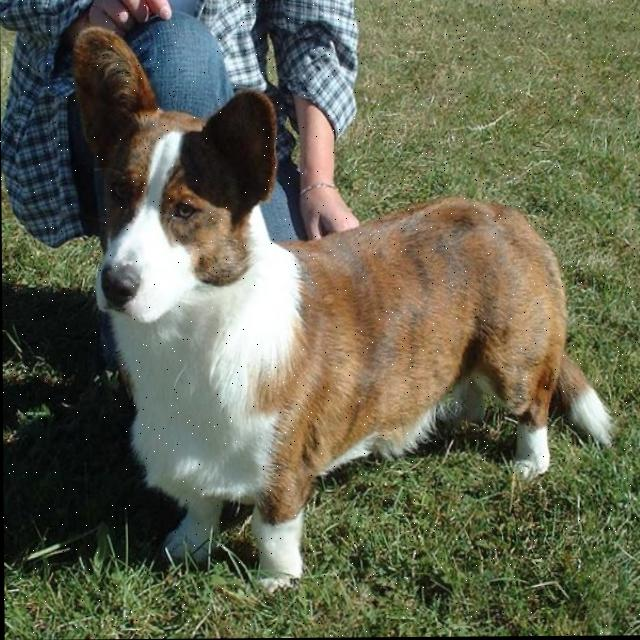CORGI: (65, 28, 612, 601)
